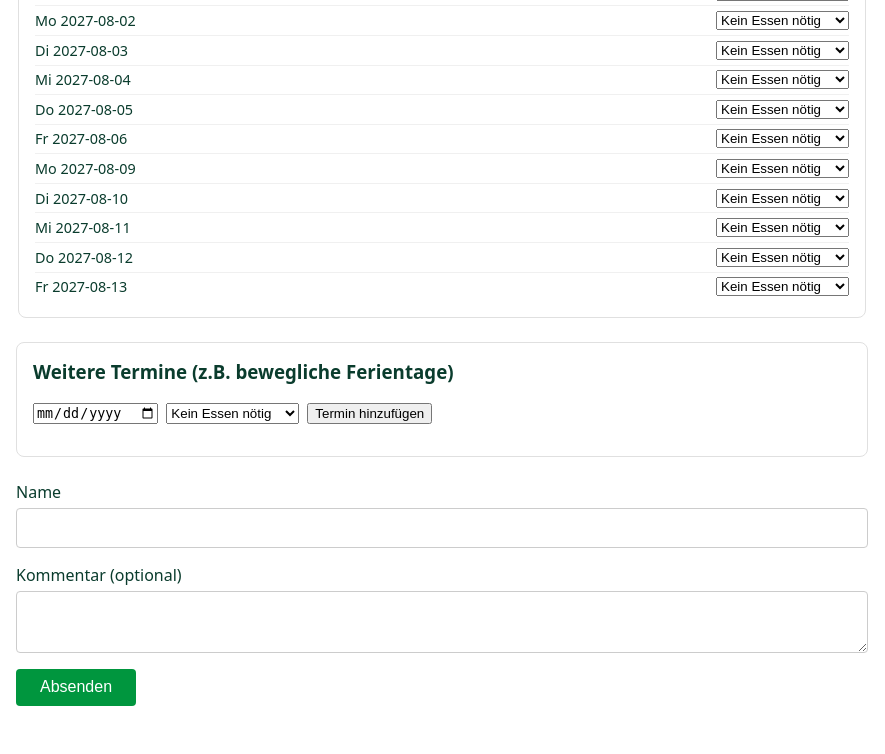
Test: SurveyForm › sendet für jeden Ferientag eine Zeile mit Standardkategorie und zeigt eine Erfolgsmeldung
(page scrolled)
In the field labelled "Name": (442, 528) [16,508,868,548], type "Max Mustermann"
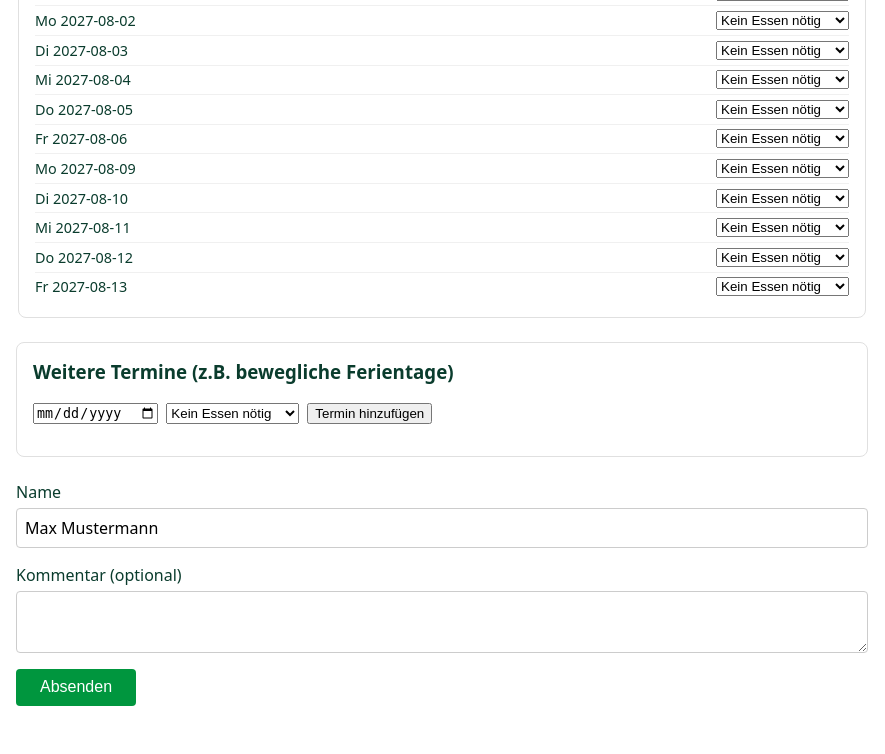
Click the button "Absenden": (76, 688) [16,669,136,706]
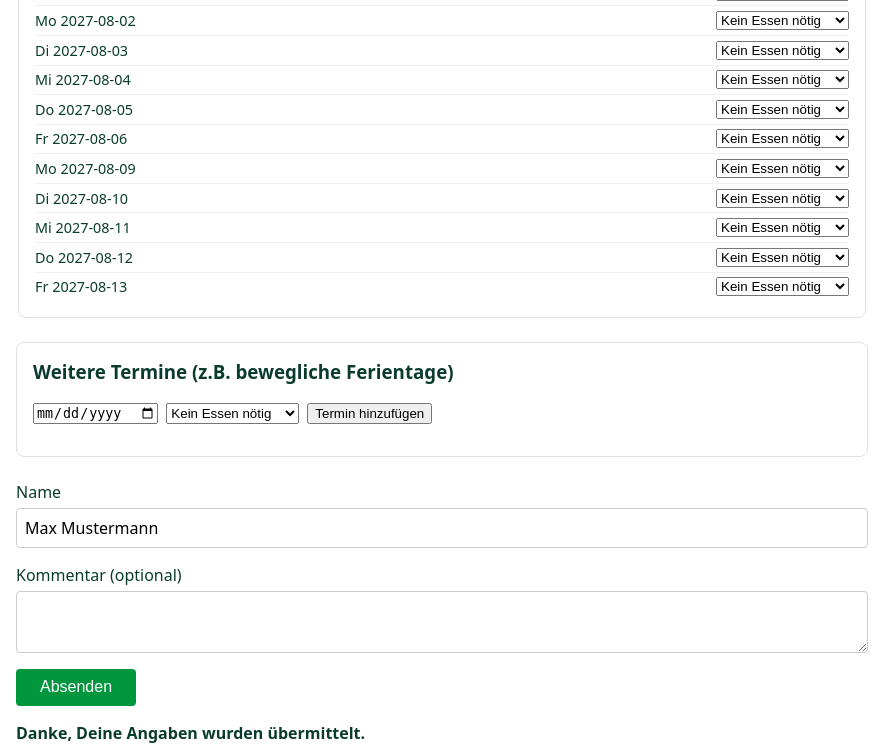
Expected: the text "Danke, Deine Angaben wurden übermittelt." is shown, [16,722,365,744]
